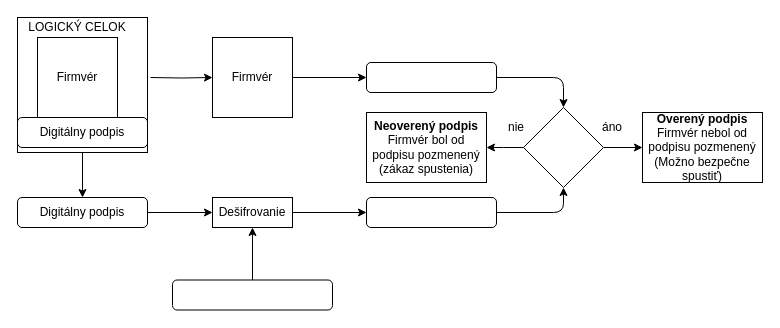
This 780x328 diagram has some shape labels left out. Here are the shapes that lost their labels. From the top down, the centre of each, then its label:
At [431,77]: "HASH (SHA-256)".
At [563,147]: "Zhoda?".
At [431,212]: "Pôvodný HASH (SHA-256)".
At [252,294]: "Verejný kľúč podpisujúceho".
